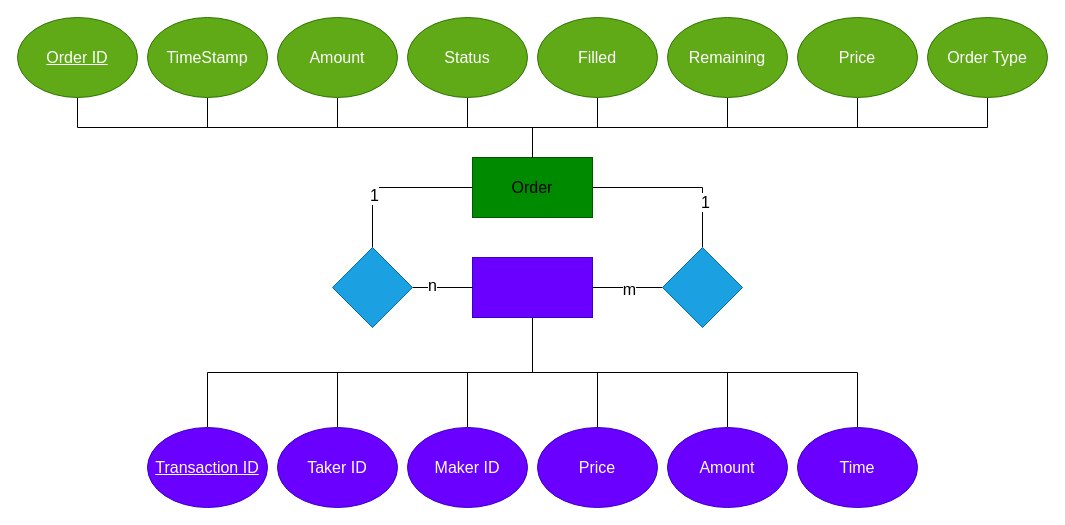
This 1065x525 diagram has some shape labels left out. The shapes that lost their labels are listed below. From the top down, each one's centre as x and y in pixels, then its label:
At (372,287): "ist Taker".
At (532,287): "Transaktionen".
At (702,287): "ist Maker".
